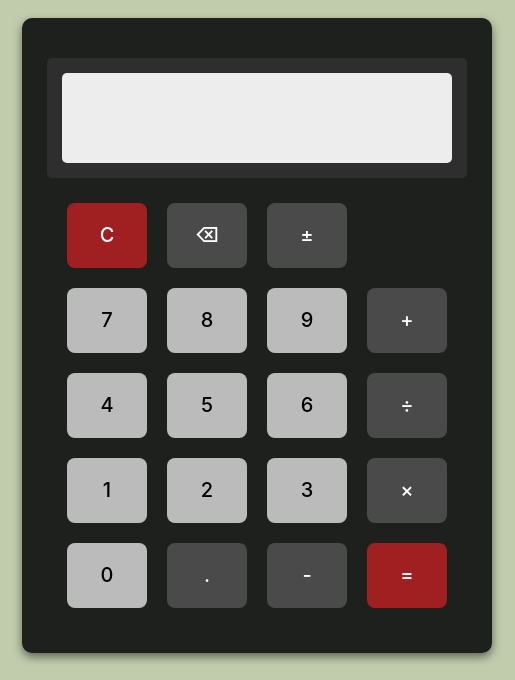
Test: displays number when number button is clicked
The width and height of the screenshot is (515, 680).
What coordinates should you click on to do the following:
click the button "1"
I would click on:
 (107, 490)
Its box is [67,458,147,522].
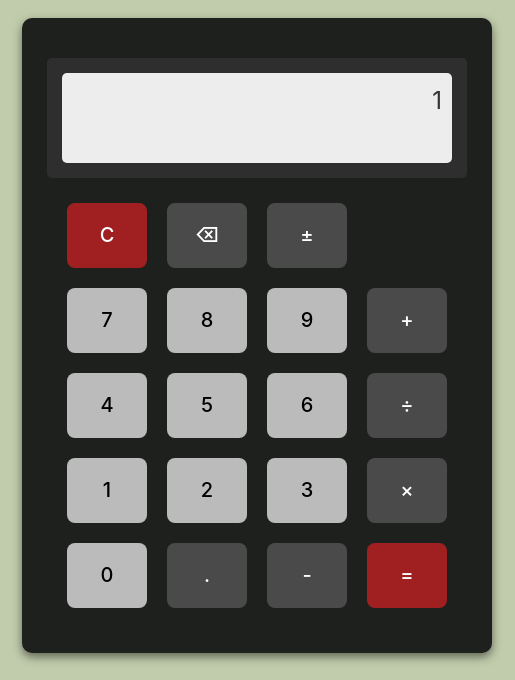
Expected: the text with test id "display-value" reads "1", [432,86,442,114]
